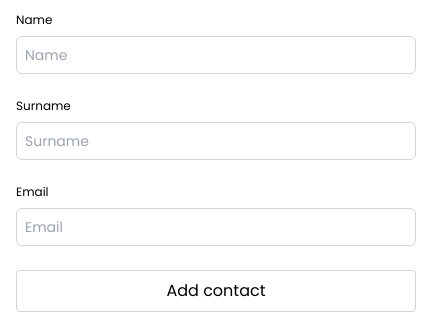
it: Form › should display validation error when email is invalid
Type "invalid-email" into the field with placeholder "Email".
click(216, 227); type("invalid-email")  # box [16,208,416,246]
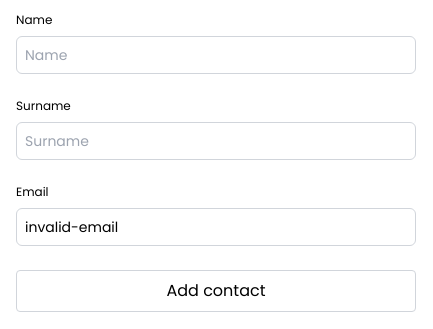
Click the button "Add contact".
click(216, 291)  # box [16,270,416,312]
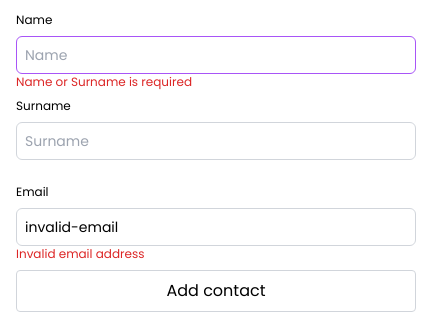
Expected: the text "Invalid email address" is shown, [16,245,144,262]
